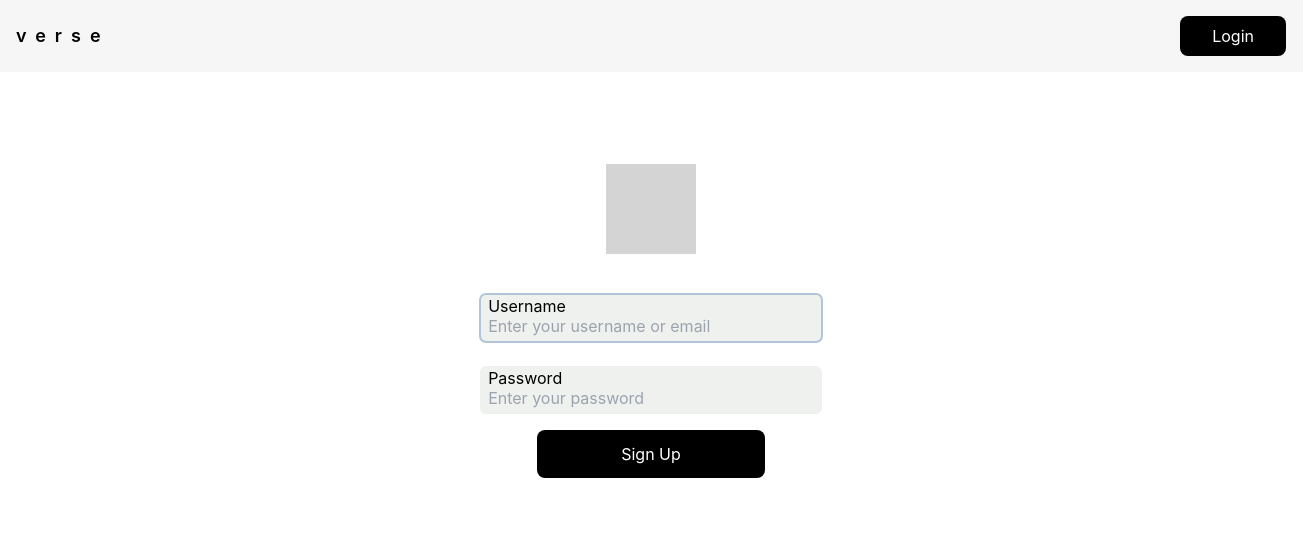
Test: Signup › displays the error message when only username is empty
Type "password test" into the password field with test id "password". click: (651, 390)
box: [480,366,822,414]
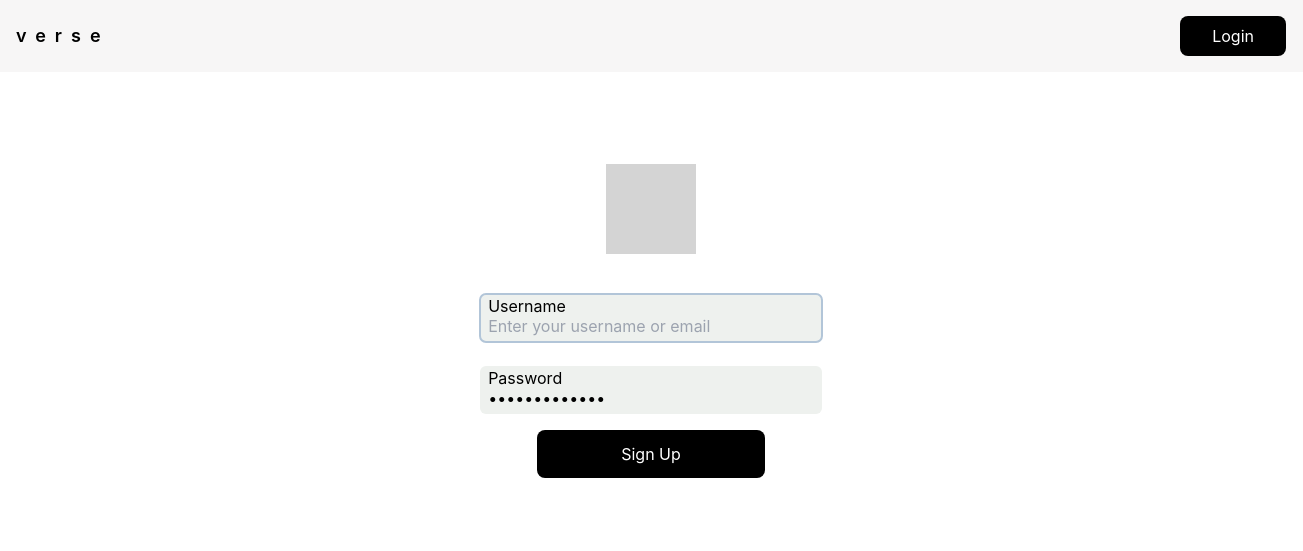
Click the button with test id "signup-button". click: (651, 454)
box: [537,430,765,478]
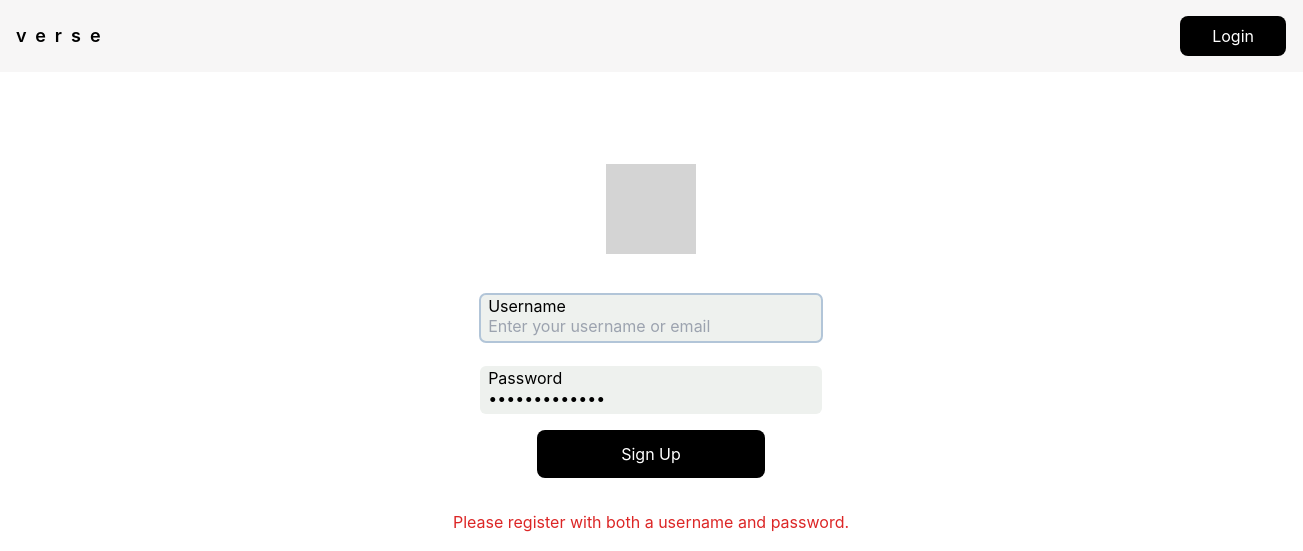
Check: the text "Please register with both a username and password." is shown, box [453,510,849,534]
